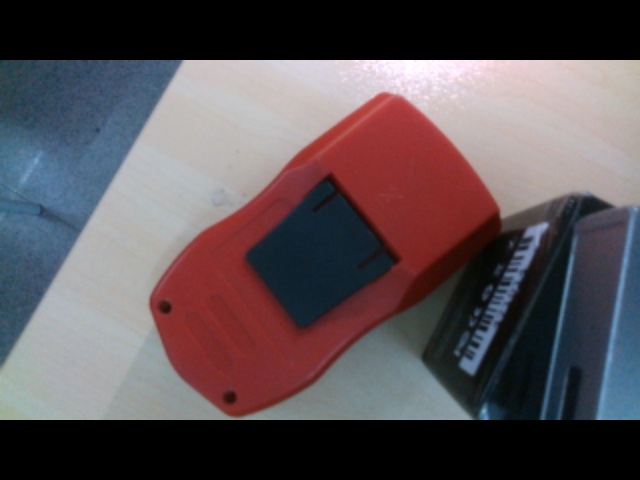Multimeter: (147, 92, 504, 419)
Screw holes: (155, 301, 176, 315), (222, 388, 238, 406)
